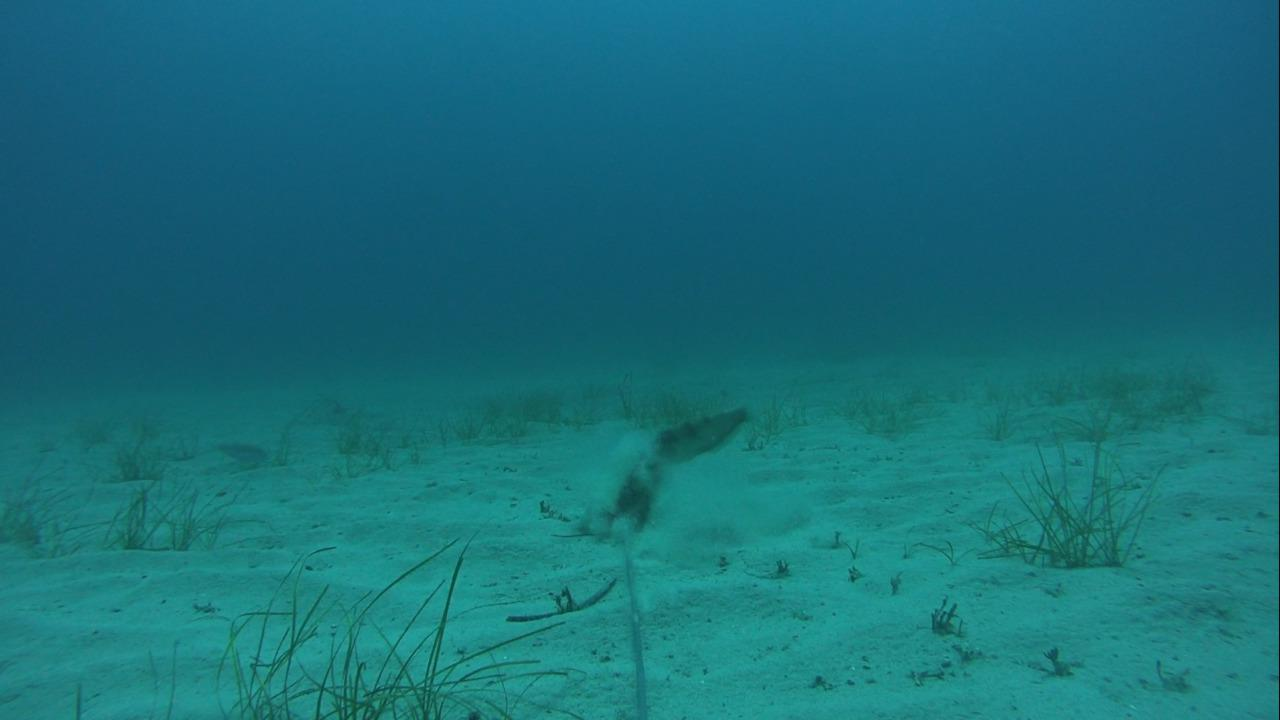raor: (651, 403, 758, 468), (207, 436, 268, 466)
